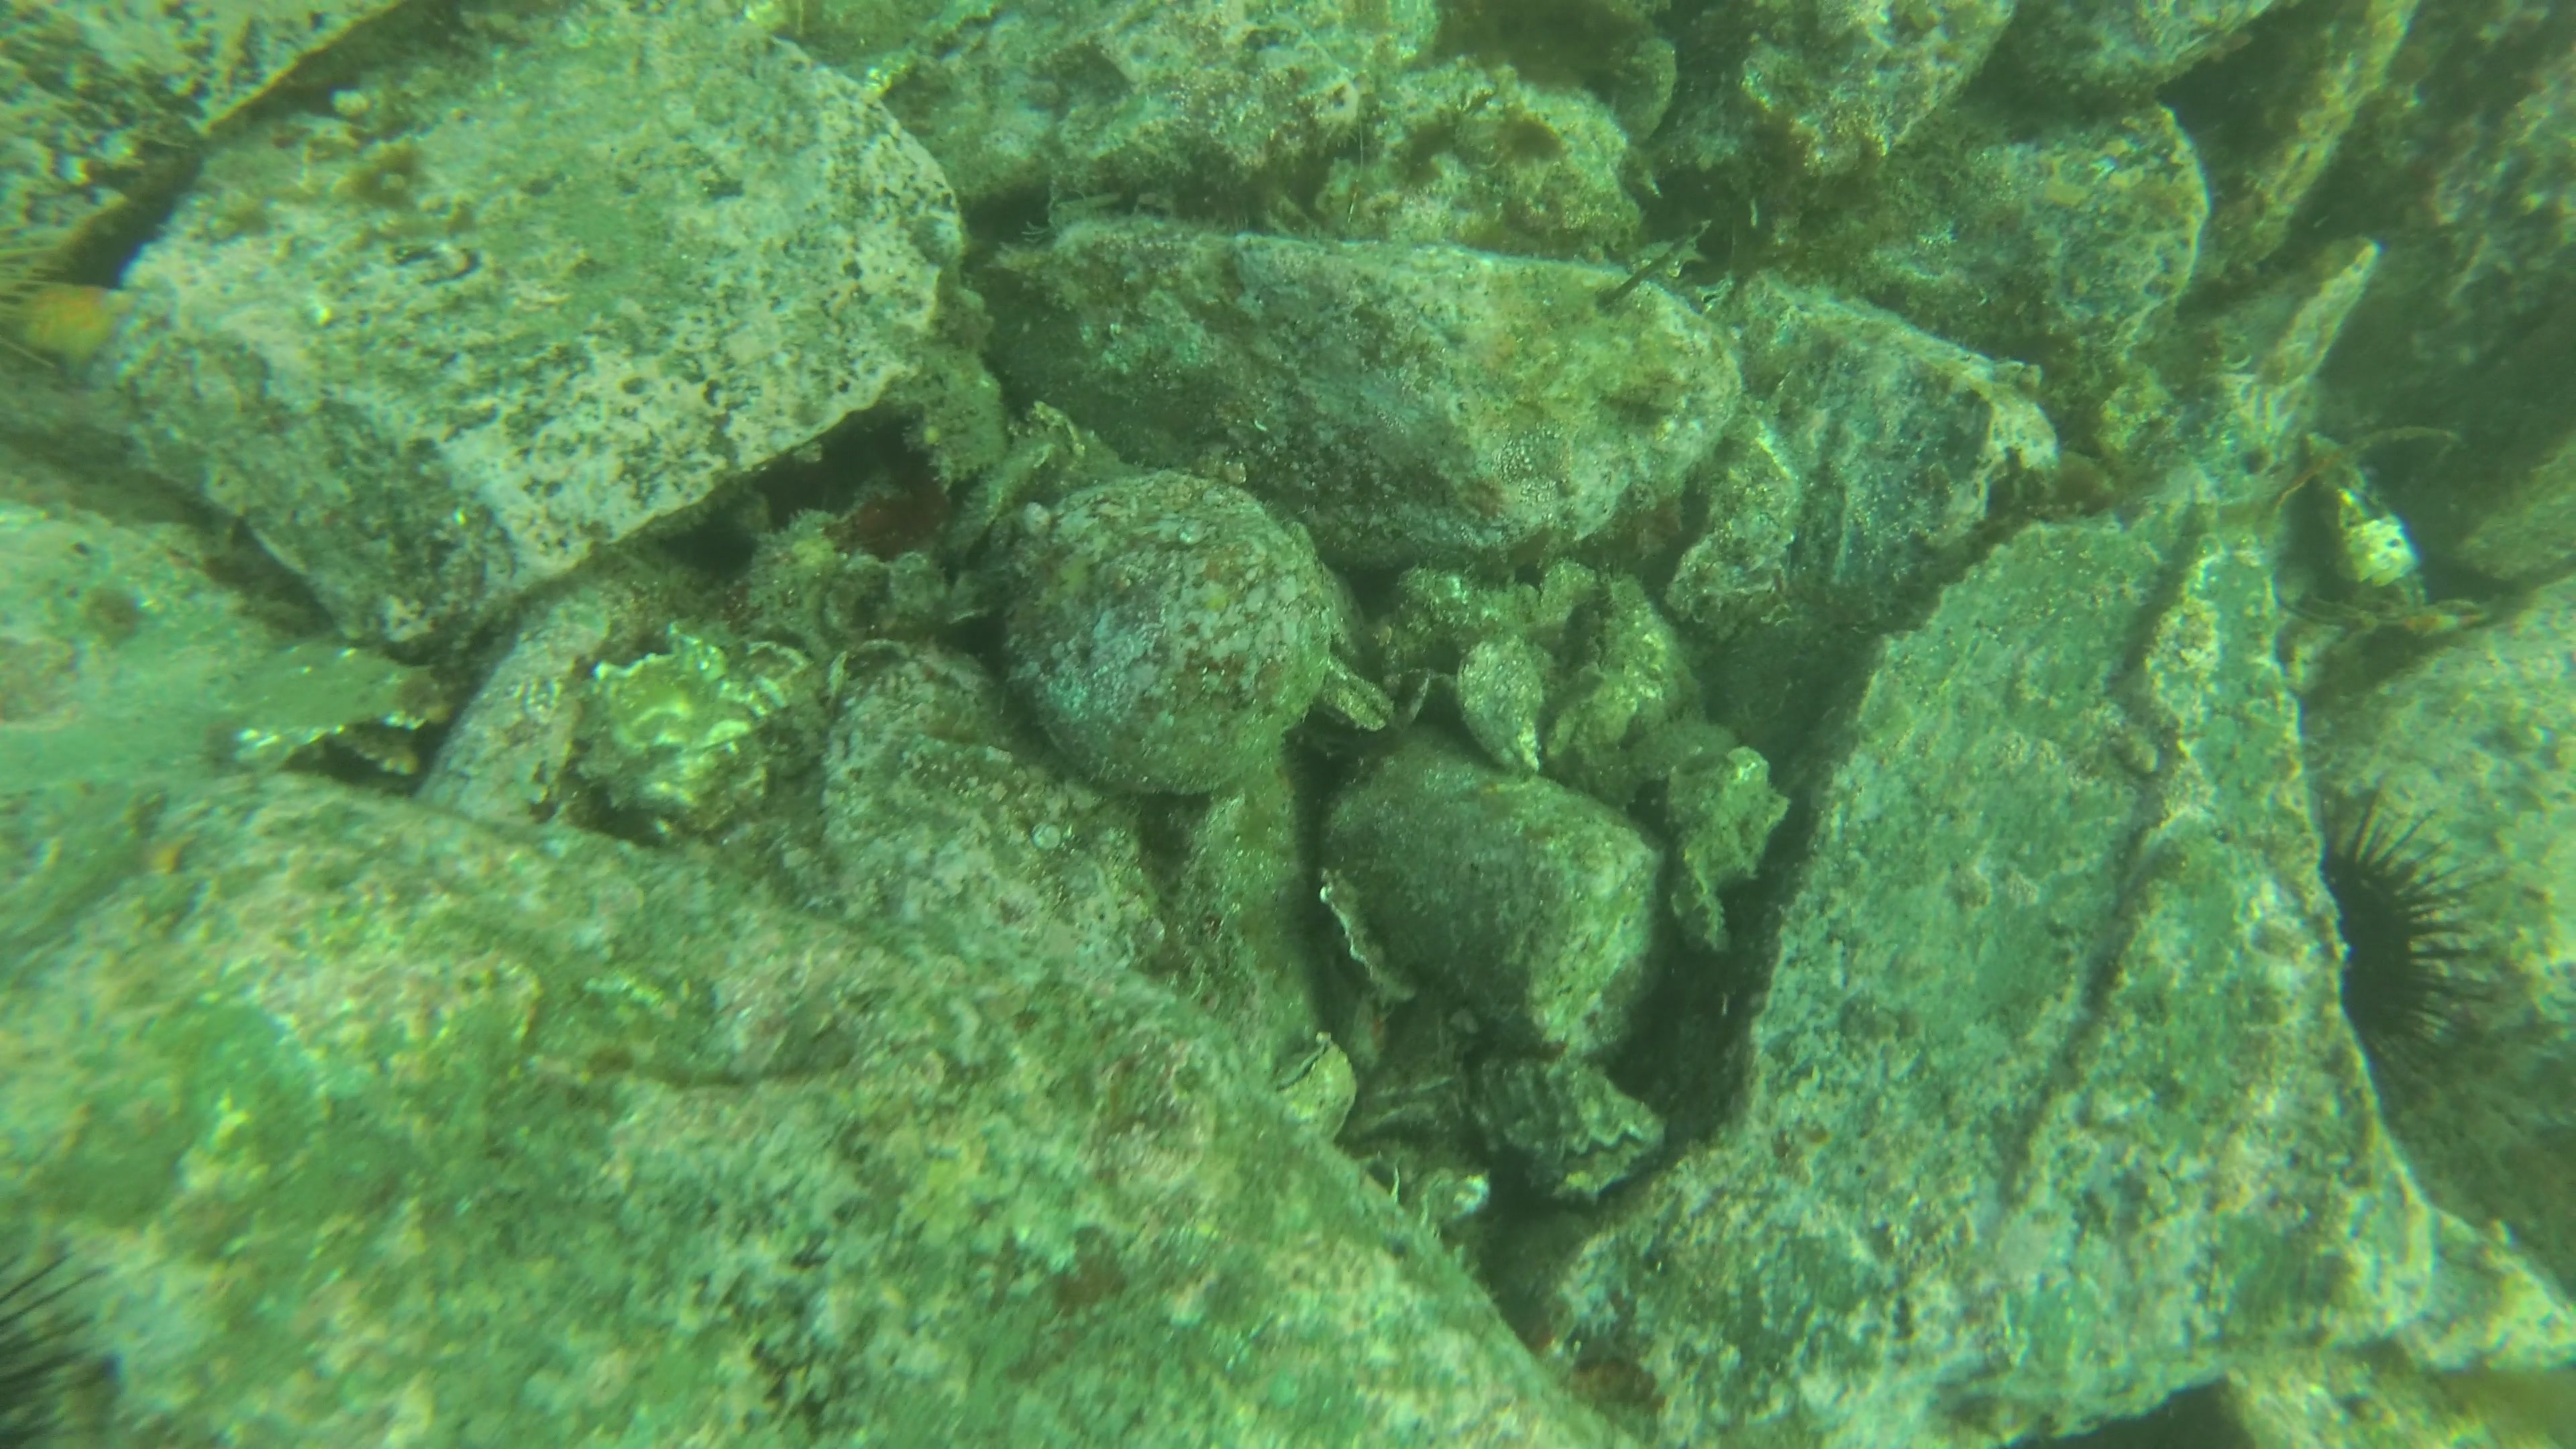echinus: (2300, 789, 2489, 1079)
starfish: (2, 267, 157, 389)
